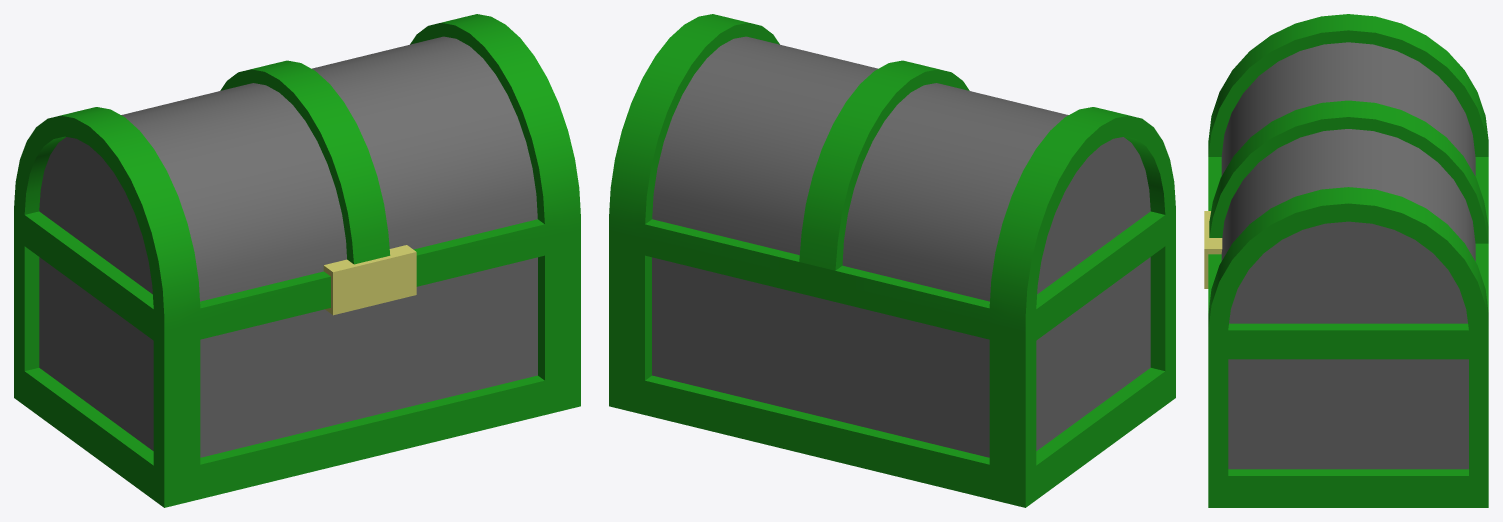
The picture shows the model from 3 angles, left to right: view 1: azimuth 30°, elevation 25°; view 2: azimuth 150°, elevation 25°; view 3: azimuth 270°, elevation 25°; orthographic projection. The views are drawn at different scales.
Visible parts, largest first — view 1: Chest Top, Chest Bot; view 2: Chest Top, Chest Bot; view 3: Chest Top, Chest Bot.
Boxes of the visible parts, left/top/right/bottom form: Chest Top: left=14, top=14, right=580, bottom=332; Chest Bot: left=14, top=223, right=580, bottom=507; Chest Top: left=609, top=14, right=1175, bottom=332; Chest Bot: left=609, top=223, right=1175, bottom=507; Chest Top: left=1204, top=14, right=1488, bottom=344; Chest Bot: left=1208, top=344, right=1488, bottom=507.
Bounding box in the file's own units: 2.3 × 1.72 × 1.46.
